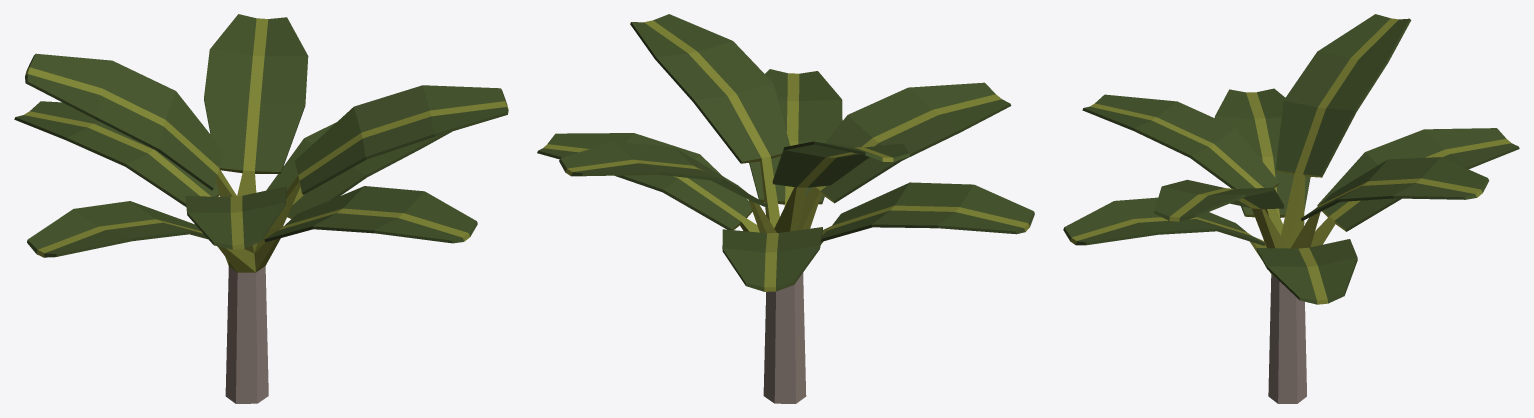
The model's file is SaguPalmMetroxylon.fbx.
3 renders of one model, left to right at view 1: azimuth 30°, elevation 25°; view 2: azimuth 150°, elevation 25°; view 3: azimuth 270°, elevation 25°, orthographic. The views are drawn at different scales.
Visible parts, largest first — view 1: Metroxylon; view 2: Metroxylon; view 3: Metroxylon.
Part boxes in pixels (left/top/right/bottom): Metroxylon: left=14, top=14, right=508, bottom=403; Metroxylon: left=537, top=14, right=1034, bottom=403; Metroxylon: left=1063, top=14, right=1519, bottom=403.
Bounding box in the file's own units: 251 × 175 × 232.
